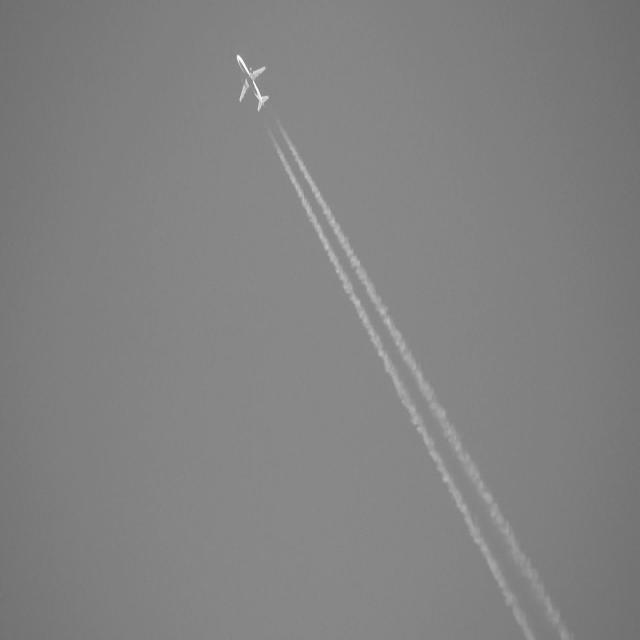aeroplane: (234, 44, 271, 117)
